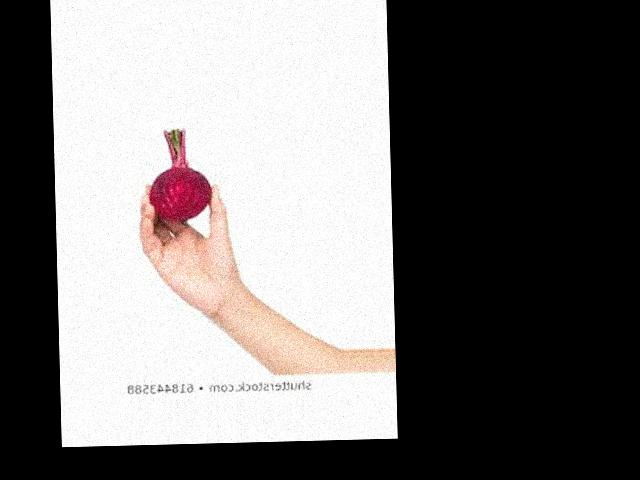beet: (146, 128, 211, 221)
